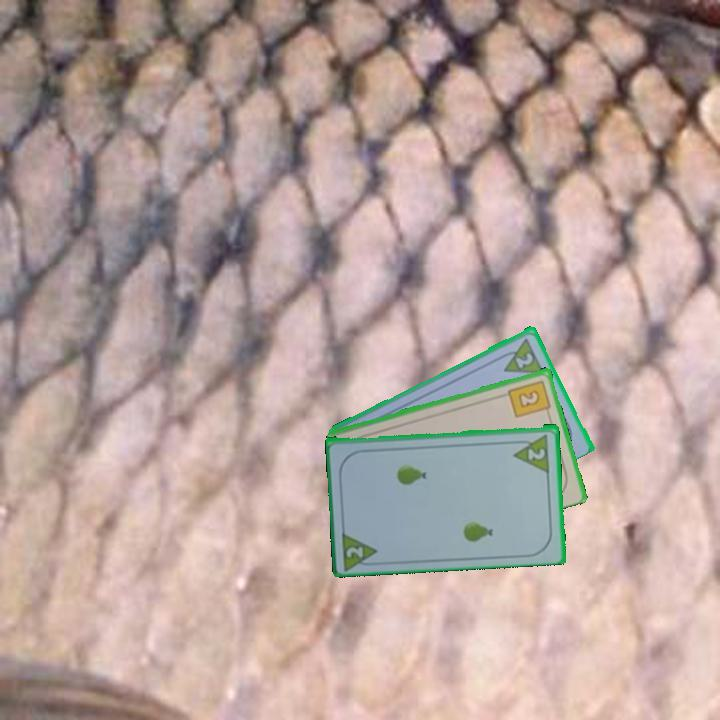2b: (505, 376, 554, 420)
2p: (510, 430, 552, 474), (512, 348, 536, 371), (343, 543, 366, 560)
